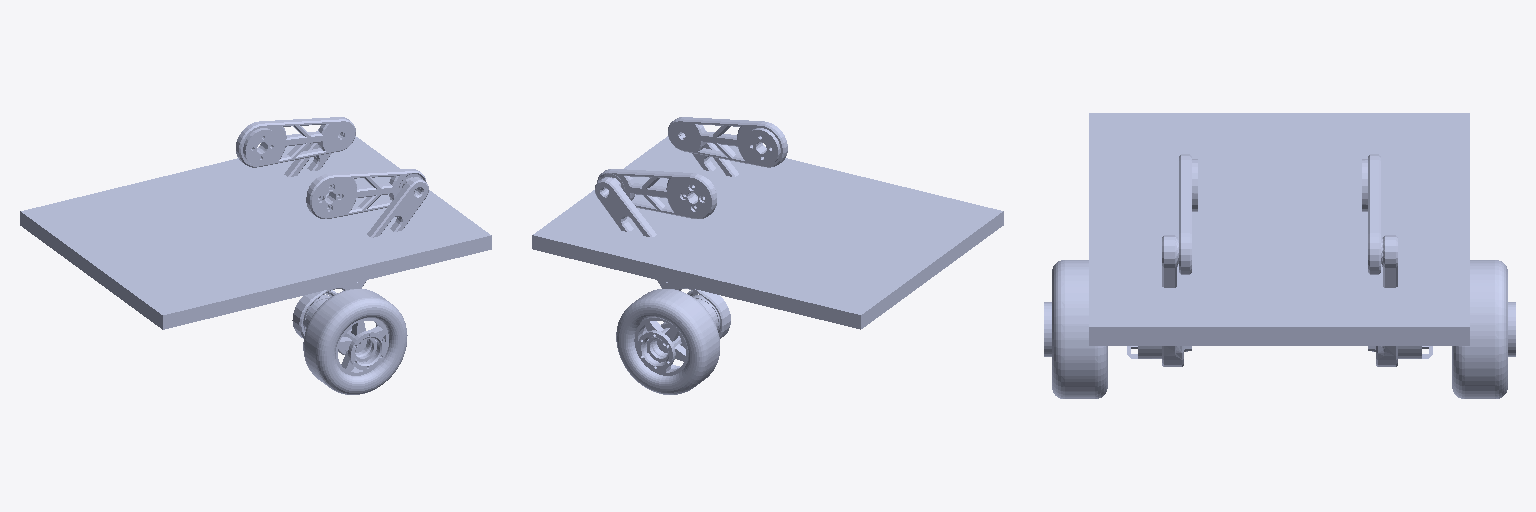
URDF robot description (sf):
<?xml version="1.0" encoding="utf-8"?>
<!-- This URDF was automatically created by SolidWorks to URDF Exporter! Originally created by Stephen Brawner (brawner@gmail.com) 
     Commit Version: 1.6.0-4-g7f85cfe  Build Version: 1.6.7995.38578
     For more information, please see http://wiki.ros.org/sw_urdf_exporter -->
<robot
  name="sf">
  <link
    name="base_link">
    <inertial>
      <origin
        xyz="0.0061304 0.0002476 -0.0093676"
        rpy="0 0 0" />
      <mass
        value="0.2660000" />  # 原版质量0.266
      <inertia
        ixx="0.0006309"
        ixy="0.0000006"
        ixz="-0.0000468"
        iyy="0.0003008"
        iyz="0.0000003"
        izz="0.0007489" />
      <!--<mass
        value="0.2660000" />
      <inertia
        ixx="0.001100"
        ixy="0.0000000"
        ixz="0.0000000"
        iyy="0.001400"
        iyz="0.0000000"
        izz="0.002400" />-->
      <!--<mass
        value="0.7280000" />  
      <inertia
        ixx="0.001727"    
        ixy="0.0000016"   
        ixz="-0.000128"   
        iyy="0.000823"    
        iyz="0.0000008"   
        izz="0.002050" />-->  
    </inertial>
    <visual>
      <!--<origin
        xyz="0.00 0 -0.00"
        rpy="0 0 0" />-->
      <origin
        xyz="0.01 0 -0.03"
        rpy="0 0 0" />
      <geometry>
        <!--<mesh
          filename="../meshes/base_link.STL" />-->
        <box size="0.24 0.18 0.01" />
      </geometry>
      <material
        name="">
        <color
          rgba="0.792156862745098 0.819607843137255 0.933333333333333 1" />
      </material>
    </visual>
    <collision>
      <!--<origin
        xyz="0.00 0 -0.00"
        rpy="0 0 0" />-->
      <origin
        xyz="0.01 0 -0.03"
        rpy="0 0 0" />
      <geometry>
        <!--<mesh
          filename="../meshes/base_link.STL" />-->
        <box size="0.24 0.18 0.01" />
      </geometry>
    </collision>
  </link>
  <link
    name="LT_link">
    <inertial>
      <origin
        xyz="0.0012701 0.0040620 -0.0190086"
        rpy="0 0 0" />
      <mass
        value="0.0080000" />
      <inertia
        ixx="0.0000041"
        ixy="0.0000000"
        ixz="0.0000002"
        iyy="0.0000046"
        iyz="0.0000001"
        izz="0.0000005" />
    </inertial>
    <visual>
      <origin
        xyz="0 0 0"
        rpy="0 0 0" />
      <geometry>
        <mesh
          filename="../meshes/LT_link.STL" />
      </geometry>
      <material
        name="">
        <color
          rgba="0.792156862745098 0.819607843137255 0.933333333333333 1" />
      </material>
    </visual>
    <collision>
      <origin
        xyz="0 0 0"
        rpy="0 0 0" />
      <geometry>
        <mesh
          filename="../meshes/LT_link.STL" />
      </geometry>
    </collision>
  </link>
  <joint
    name="LT_joint"
    type="revolute">
    <origin
      xyz="0.037193 0.04014 0.00555"
      rpy="0 -1.3914 0" />
    <parent
      link="base_link" />
    <child
      link="LT_link" />
    <axis
      xyz="0 -1 0" />
    <limit
      lower="-1.3479"
      upper="0.3363"
      effort="0.5"
      velocity="20" />
    <dynamics
      friction="0.00"
      damping="0.00" />
  </joint>
  <link
    name="LC_link">
    <inertial>
      <origin
        xyz="0.0013809 0.0047027 -0.0690315"
        rpy="0 0 0" />
      <mass
        value="0.0166292" />
      <inertia
        ixx="1.92606315320937E-05"
        ixy="-8.82655659688194E-09"
        ixz="-3.55356649539172E-07"
        iyy="1.99807316204063E-05"
        iyz="4.41228359669666E-07"
        izz="1.55379596081475E-06" />
    </inertial>
    <visual>
      <origin
        xyz="0 0 0"
        rpy="0 0 0" />
      <geometry>
        <mesh
          filename="../meshes/LC_link.STL" />
      </geometry>
      <material
        name="">
        <color
          rgba="0.792156862745098 0.819607843137255 0.933333333333333 1" />
      </material>
    </visual>
    <collision>
      <origin
        xyz="0 0 0"
        rpy="0 0 0" />
      <geometry>
        <mesh
          filename="../meshes/LC_link.STL" />
      </geometry>
    </collision>
  </link>
  <joint
    name="LC_joint"
    type="revolute">
    <origin
      xyz="0.00400624584257155 0.00825 -0.0599599974003271"
      rpy="3.14159265358979 0.970968251102385 3.14159265358979" />
    <parent
      link="LT_link" />
    <child
      link="LC_link" />
    <axis
      xyz="0 -1 0" />
    <limit
      lower="-0.3"
      upper="1.25"
      effort="0.5"
      velocity="20" />
    <dynamics
      friction="0.00"
      damping="0.00" />
  </joint>
  <link
    name="LW_link">
    <inertial>
      <origin
        xyz="0.0000000 0.0083246 0.0000000"
        rpy="0 0 0" />
      <mass
        value="0.0559681585451639" />
      <inertia
        ixx="0.0000121"
        ixy="0.0000000"
        ixz="0.0000000"
        iyy="0.0000209"
        iyz="0.0000000"
        izz="0.0000121" />
    </inertial>
    <visual>
      <origin
        xyz="0 0.015 0"
        rpy="0 0 0" />
      <geometry>
        <mesh
          filename="../meshes/LW_link.STL" />
      </geometry>
      <!--<geometry>
        <cylinder length="0.03" radius="0.03"/>
      </geometry>-->
      <material
        name="">
        <color
          rgba="0.792156862745098 0.819607843137255 0.933333333333333 1" />
      </material>
    </visual>
    <collision>
      <origin
        xyz="0 0.015 0"
        rpy="0 0 0" />
      <geometry>
        <mesh
          filename="../meshes/LW_link.STL" />
      </geometry>
      <!--<geometry>
        <cylinder length="0.03" radius="0.03"/>
      </geometry>-->
    </collision>
  </link>
  <joint
    name="LW_joint"
    type="revolute">
    <origin
      xyz="0.00200000000000076 0.024 -0.0999799979995941"
      rpy="0 -0.779219558190924 0" />
    <parent
      link="LC_link" />
    <child
      link="LW_link" />
    <axis
      xyz="0 1 0" />
    <limit
      
      effort="0.25"
      velocity="100" />
  </joint>
  <link
    name="RT_link">
    <inertial>
      <origin
        xyz="0.00127013 -0.0040620 -0.0190086"
        rpy="0 0 0" />
      <mass
        value="0.0080000" />
      <inertia
        ixx="0.0000041"
        ixy="0.0000000"
        ixz="0.0000002"
        iyy="0.0000046"
        iyz="0.0000001"
        izz="0.0000005" />
    </inertial>
    <visual>
      <origin
        xyz="0 0 0"
        rpy="0 0 0" />
      <geometry>
        <mesh
          filename="../meshes/RT_link.STL" />
      </geometry>
      <material
        name="">
        <color
          rgba="0.792156862745098 0.819607843137255 0.933333333333333 1" />
      </material>
    </visual>
    <collision>
      <origin
        xyz="0 0 0"
        rpy="0 0 0" />
      <geometry>
        <mesh
          filename="../meshes/RT_link.STL" />
      </geometry>
    </collision>
  </link>
  <joint
    name="RT_joint"
    type="revolute">
    <origin
      xyz="0.037193 -0.03976 0.00555"
      rpy="0 -1.3914 0" />
    <parent
      link="base_link" />
    <child
      link="RT_link" />
    <axis
      xyz="0 1 0" />
    <limit
      lower="-0.3363"
      upper="1.3479"
      effort="0.5"
      velocity="20" />
    <dynamics
      friction="0.00"
      damping="0.00" />
  </joint>
  <link
    name="RC_link">
    <inertial>
      <origin
        xyz="-0.0013809 -0.0047027 -0.0690315"
        rpy="0 0 0" />
      <mass
        value="0.0166292" />
      <inertia
        ixx="0.0000240"
        ixy="0.0000000"
        ixz="0.0000004"
        iyy="0.0000245"
        iyz="-0.00000006"
        izz="0.0000016" />
    </inertial>
    <visual>
      <origin
        xyz="0 0 0"
        rpy="0 0 0" />
      <geometry>
        <mesh
          filename="../meshes/RC_link.STL" />
      </geometry>
      <material
        name="">
        <color
          rgba="0.792156862745098 0.819607843137255 0.933333333333333 1" />
      </material>
    </visual>
    <collision>
      <origin
        xyz="0 0 0"
        rpy="0 0 0" />
      <geometry>
        <mesh
          filename="../meshes/RC_link.STL" />
      </geometry>
    </collision>
  </link>
  <joint
    name="RC_joint"
    type="revolute">
    <origin
      xyz="0.0040062458425682 -0.00825000000001 -0.0599599974003474"
      rpy="-3.14159265358951 1.01097091824902 -3.14159265358956" />
    <parent
      link="RT_link" />
    <child
      link="RC_link" />
    <axis
      xyz="0 1 0" />
    <limit
      lower="-1.25"
      upper="0.3"
      effort="0.5"
      velocity="20" />
    <dynamics
      friction="0.00"
      damping="0.00" />
  </joint>
  <link
    name="RW_link">
    <inertial>
      <origin
        xyz="0.0000000 -0.0083246 0.0000000"
        rpy="1.5708 0 0" />
      <mass
        value="0.0559681585451639" />
      <inertia
        ixx="0.0000121"
        ixy="0.0000000"
        ixz="0.0000000"
        iyy="0.0000209"
        iyz="0.0000000"
        izz="0.0000121" />
    </inertial>
    <visual>
      <origin
        xyz="0 -0.015 0"
        rpy="0 0 0" />
      <geometry>
        <mesh
          filename="../meshes/RW_link.STL" />
      </geometry>
      <!--<geometry>
        <cylinder length="0.03" radius="0.03"/>
      </geometry>-->
      <material
        name="">
        <color
          rgba="0.792156862745098 0.819607843137255 0.933333333333333 1" />
      </material>
    </visual>
    <collision>
      <origin
        xyz="0 -0.015 0"
        rpy="0 0 0" />
      <geometry>
        <mesh
          filename="../meshes/RW_link.STL" />
      </geometry>
      <!--<geometry>
        <cylinder length="0.03" radius="0.03"/>
      </geometry>-->
    </collision>
  </link>
  <joint
    name="RW_joint"
    type="revolute">
    <origin
      xyz="-0.00199999999999527 -0.0240000000000082 -0.0999799979995988"
      rpy="0 -0.739216891044192 0" />
    <parent
      link="RC_link" />
    <child
      link="RW_link" />
    <axis
      xyz="0 -1 0" />
    <limit
      
      effort="0.25"
      velocity="100" />
  </joint>
</robot>

--- Facts derived from the render (not from the file) ---
The picture shows the robot from 3 angles, left to right: view 1: azimuth 30°, elevation 25°; view 2: azimuth 150°, elevation 25°; view 3: azimuth 270°, elevation 25°; orthographic projection.
Model sf with 7 links and 6 joints (6 revolute), rooted at base_link, posed all joints at 0.
Links seen in each view (by area): view 1: base_link, RW_link, LT_link, RT_link, RC_link, LC_link; view 2: base_link, LW_link, RT_link, LT_link, LC_link, RC_link; view 3: base_link, LW_link, RW_link, LT_link, RT_link, LC_link, RC_link.
Link boxes in pixels (<box>): base_link: <box>20,136,491,329</box>; RW_link: <box>303,289,407,394</box>; LT_link: <box>236,117,355,167</box>; RT_link: <box>306,169,426,218</box>; RC_link: <box>292,177,428,338</box>; LC_link: <box>284,129,343,176</box>; base_link: <box>532,136,1003,329</box>; LW_link: <box>616,289,719,394</box>; RT_link: <box>668,117,787,167</box>; LT_link: <box>597,169,716,218</box>; LC_link: <box>595,177,730,338</box>; RC_link: <box>680,128,738,176</box>; base_link: <box>1089,113,1469,345</box>; LW_link: <box>1452,260,1515,398</box>; RW_link: <box>1044,260,1107,398</box>; LT_link: <box>1362,154,1380,274</box>; RT_link: <box>1179,154,1197,274</box>; LC_link: <box>1368,235,1432,366</box>; RC_link: <box>1127,235,1191,366</box>.
Size in the robot's own frame: 0.24 by 0.2226 by 0.1273 metres.
Meshes: 6 distinct files referenced, 6 mesh visuals loaded (6 binary STL).
